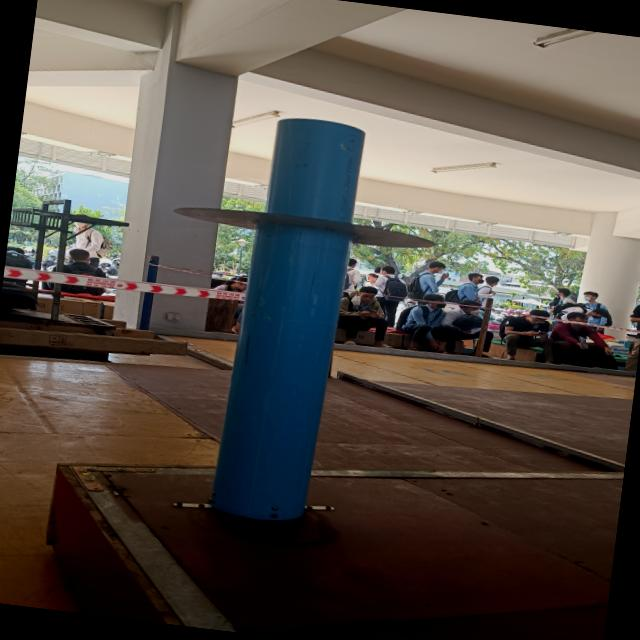pole: (156, 93, 467, 363)
